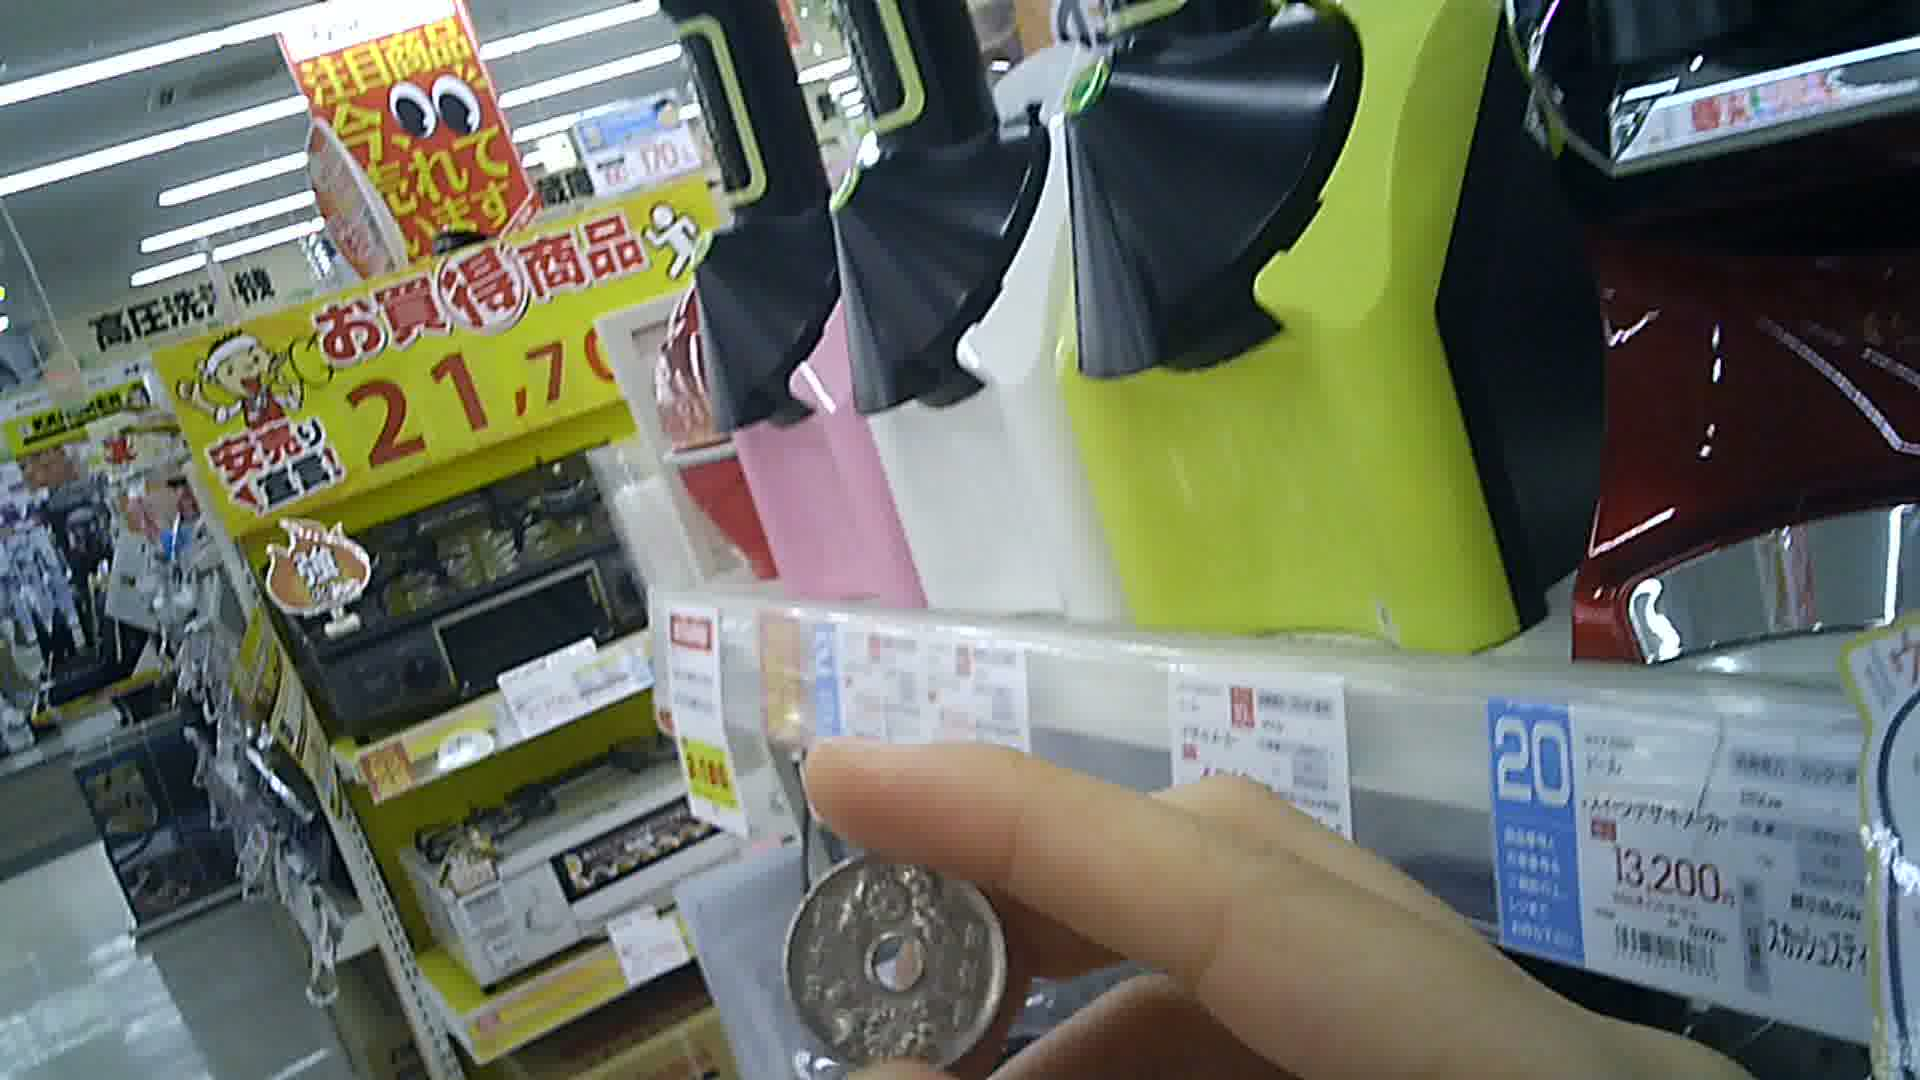50 Yen: (778, 843, 1025, 1079)
